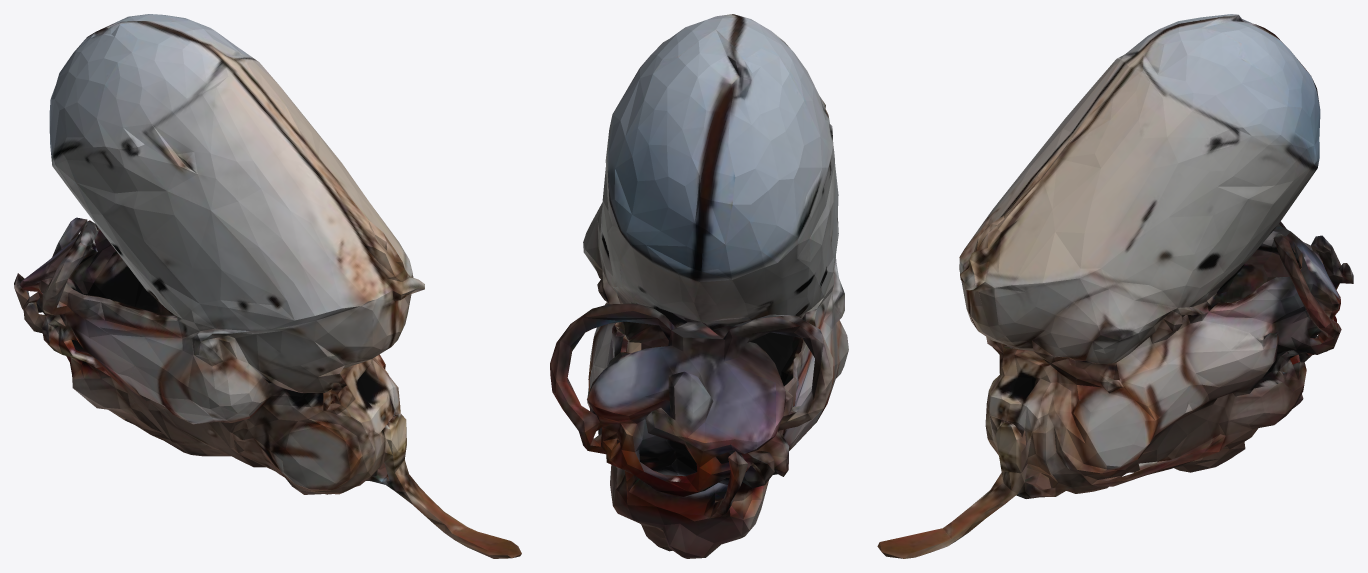
Rendered from drop_pod.glb.
The picture shows the model from 3 angles, left to right: view 1: azimuth 30°, elevation 25°; view 2: azimuth 150°, elevation 25°; view 3: azimuth 270°, elevation 25°; orthographic projection. The views are drawn at different scales.
Visible parts, largest first — view 1: textured_mesh.obj; view 2: textured_mesh.obj; view 3: textured_mesh.obj.
Part boxes in pixels (x1,y1,x2,y2): textured_mesh.obj: (14,14,521,558); textured_mesh.obj: (550,14,848,558); textured_mesh.obj: (877,14,1353,558).
Bounding box in the file's own units: 1.38 × 2 × 1.94.
1 material, 1 textured.
